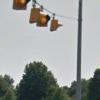Traffic light: (12, 1, 70, 37)
